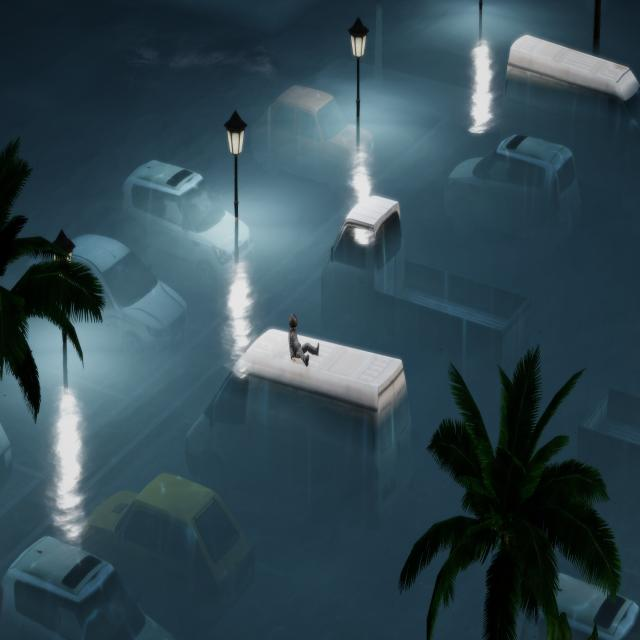Human: (284, 308, 323, 376)
